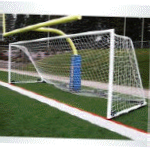goals: (7, 25, 150, 122)
